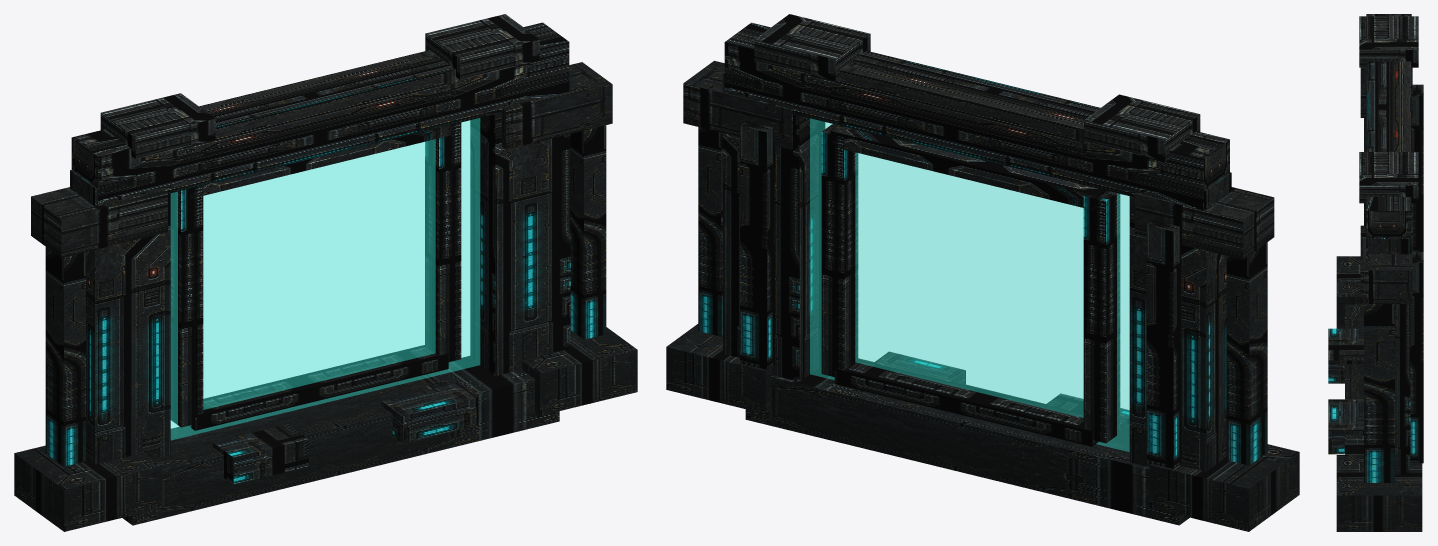
File: exit-portal.glb
3 views of the same model, side by side, from view 1: azimuth 30°, elevation 25°; view 2: azimuth 150°, elevation 25°; view 3: azimuth 270°, elevation 25° (orthographic). The views are drawn at different scales.
Parts seen in each view (by area): view 1: exit-portal-frame, exit-portal-field; view 2: exit-portal-frame, exit-portal-field; view 3: exit-portal-frame.
Part boxes in pixels (box(x1,y1,x2,y2)): exit-portal-frame: box(14, 14, 637, 531); exit-portal-field: box(171, 118, 479, 440); exit-portal-frame: box(666, 14, 1299, 531); exit-portal-field: box(810, 118, 1129, 451); exit-portal-frame: box(1328, 14, 1423, 531).
Bounding box in the file's own units: 4.77 × 3.01 × 0.8.
2 materials, 1 textured.
